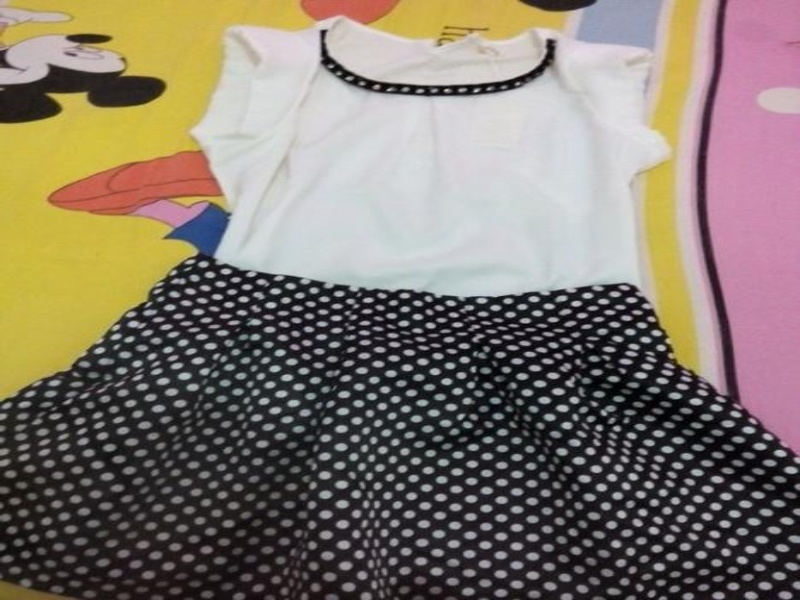skirt: (0, 252, 797, 598)
vest: (185, 10, 677, 312)
